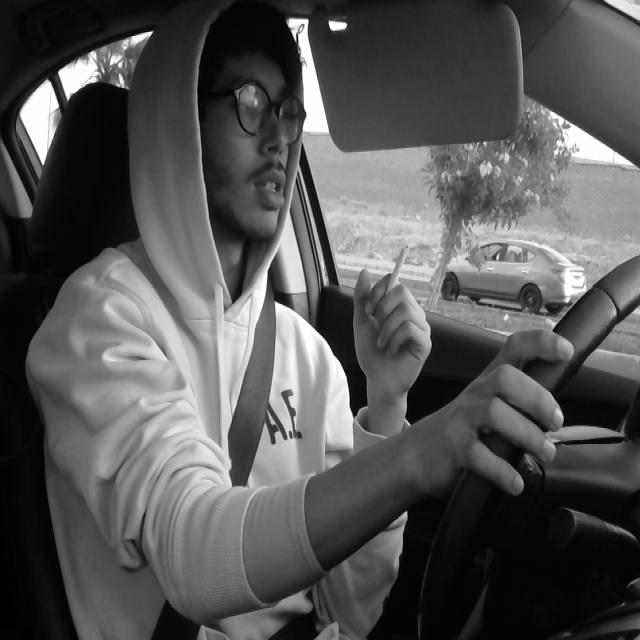smoking: (382, 238, 412, 326)
